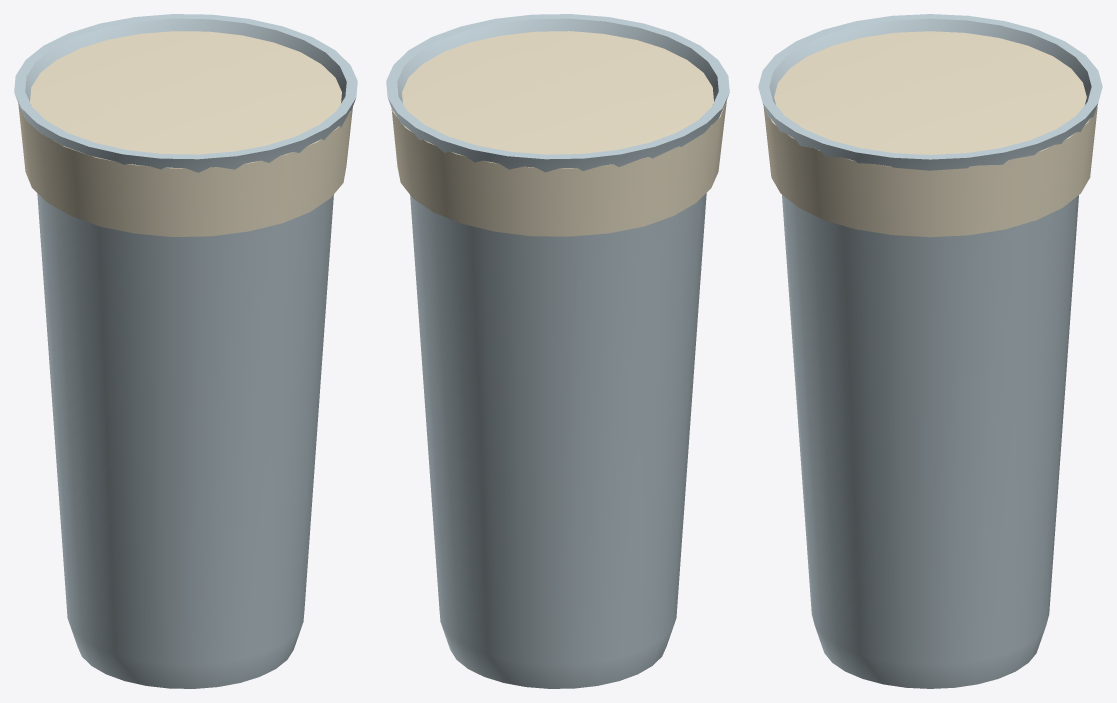
The model's file is cocktail_pint_stout.glb.
The picture shows the model from 3 angles, left to right: view 1: azimuth 30°, elevation 25°; view 2: azimuth 150°, elevation 25°; view 3: azimuth 270°, elevation 25°; orthographic projection.
Parts seen in each view (by area): view 1: cocktail_pint_stout; view 2: cocktail_pint_stout; view 3: cocktail_pint_stout.
Part boxes in pixels (x1,y1,x2,y2): cocktail_pint_stout: (14, 14, 357, 688); cocktail_pint_stout: (386, 14, 729, 688); cocktail_pint_stout: (758, 14, 1102, 688).
Bounding box in the file's own units: 0.087 × 0.155 × 0.087.
